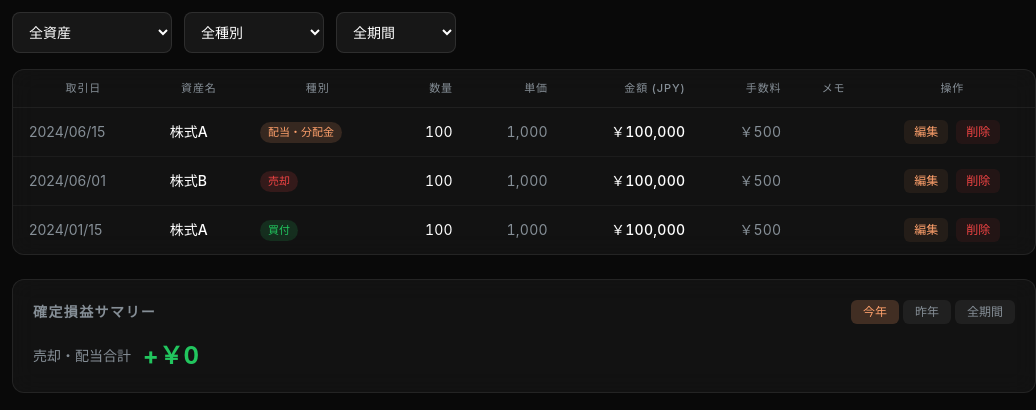
Test: TransactionList - filtering › filters by transaction type
This screenshot has width=1036, height=410.
Select "買付" in the dropdown named "取引種別フィルター" at (254, 32), box [184,12,324,53]
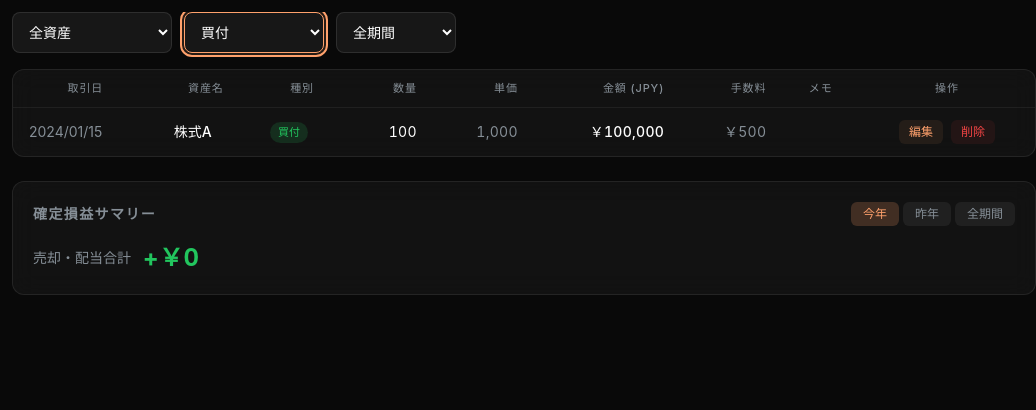
Expected: the number of buttons named "取引を削除" is 1, [951,120,995,144]
